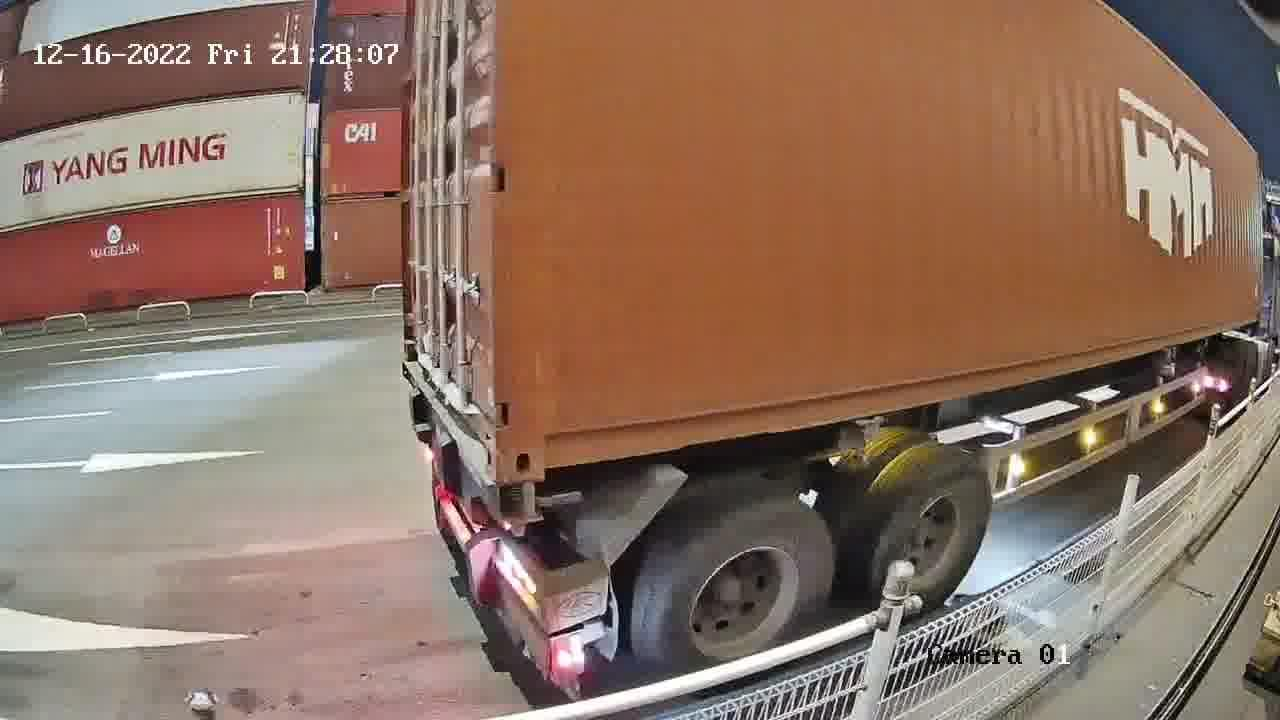Chassis: (405, 358, 498, 515)
Cone: (496, 480, 545, 519)
Hole_L: (494, 394, 575, 480)
Tire: (644, 497, 837, 675), (870, 446, 994, 610)
